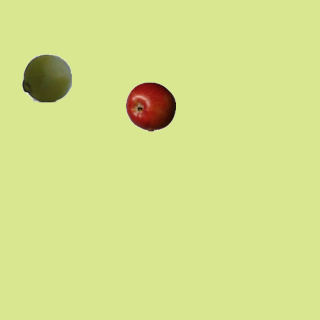Apple Braeburn: (125, 81, 175, 131)
Grape White 4: (21, 52, 71, 102)
